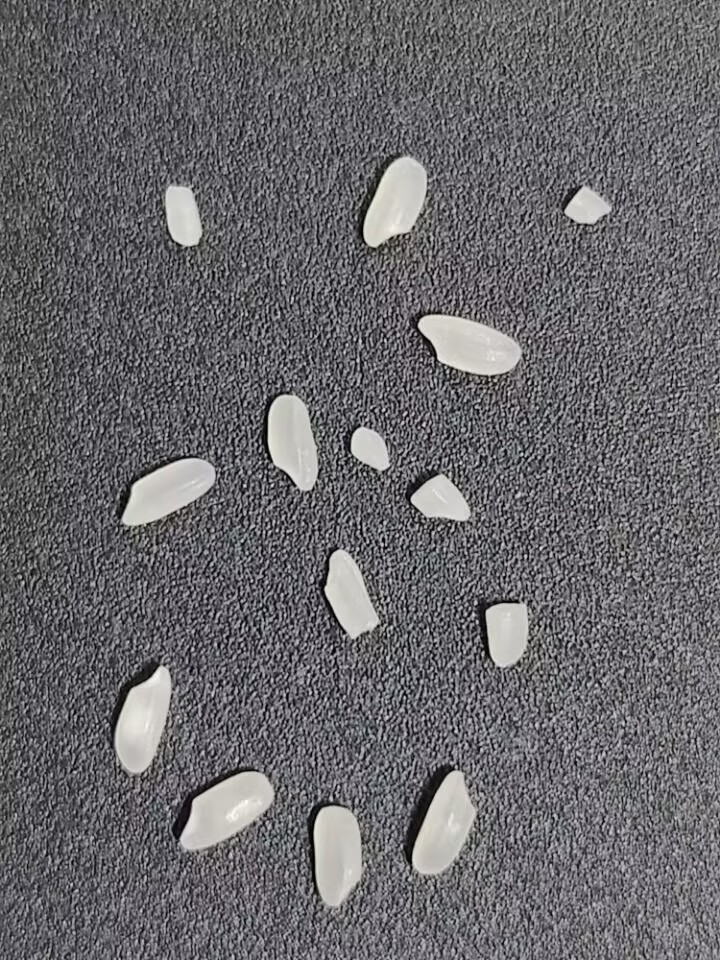broken: (324, 549, 380, 637), (160, 183, 205, 249), (410, 473, 470, 522), (486, 602, 528, 668), (562, 186, 614, 228), (350, 426, 391, 470)
rice: (176, 768, 278, 853), (409, 766, 480, 878), (118, 456, 217, 528), (114, 659, 174, 776), (414, 314, 523, 378), (360, 153, 429, 251), (311, 803, 364, 909), (266, 393, 320, 494)
